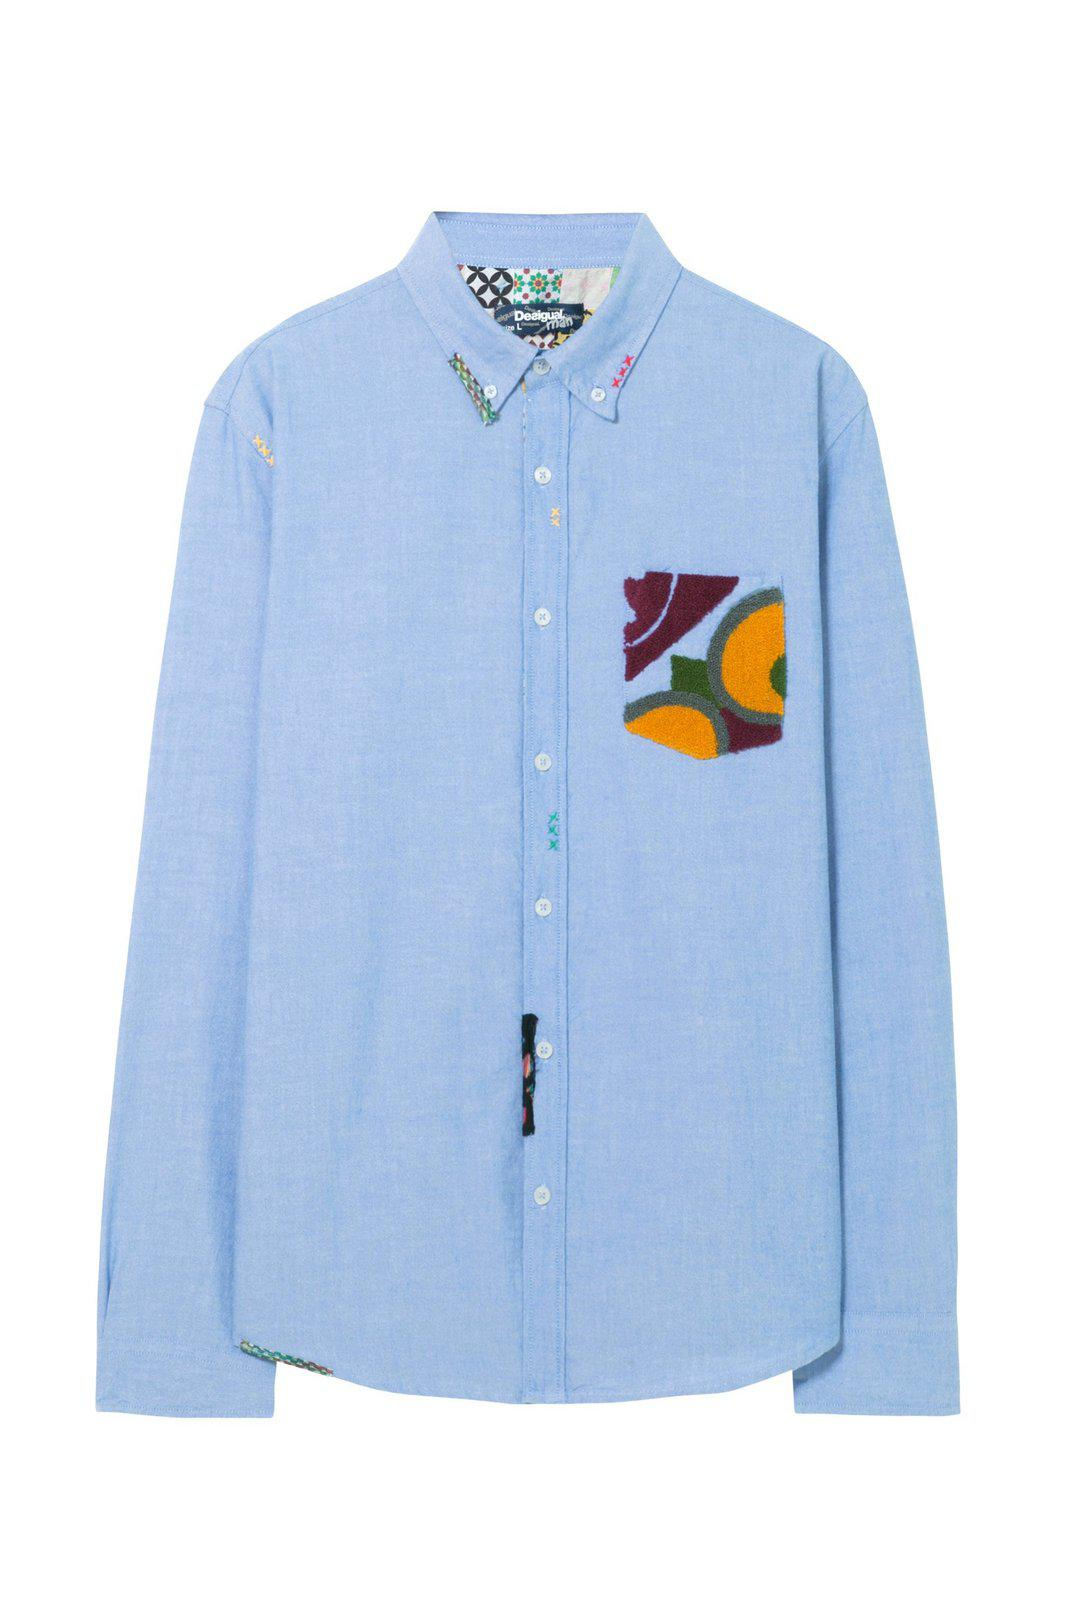teeshirt: (67, 205, 981, 1452)
